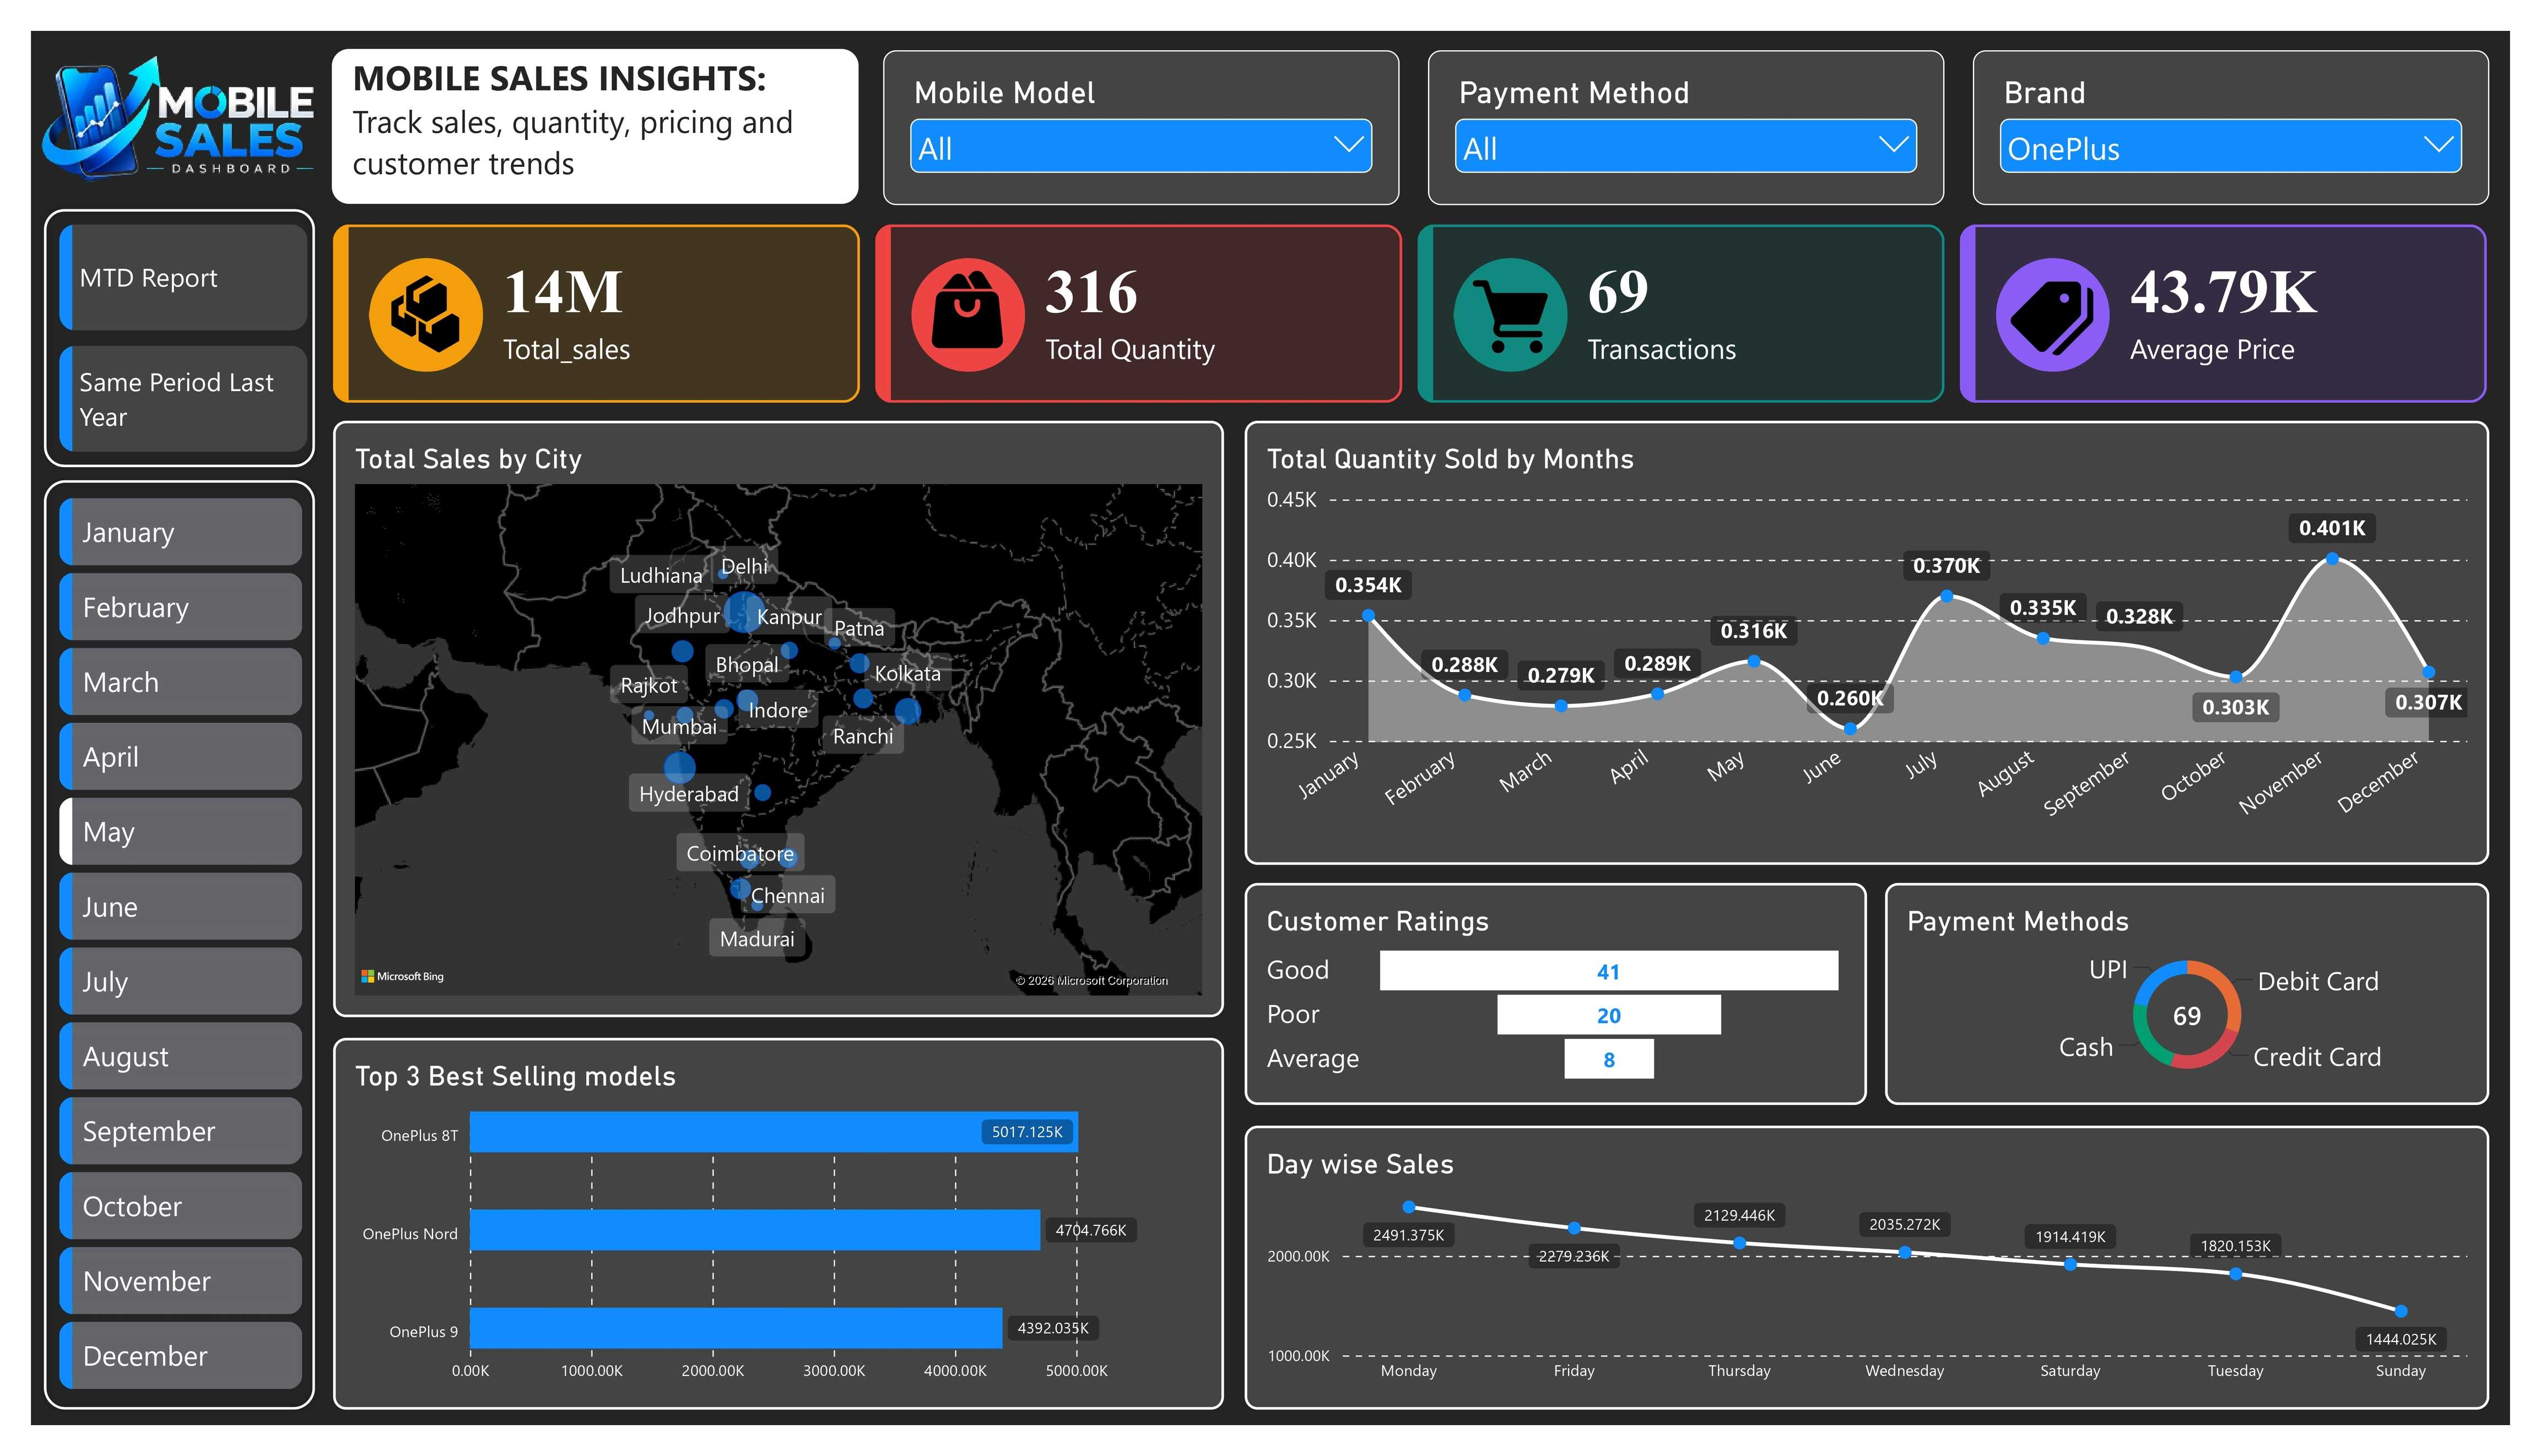

Layout of this report page (visuals, bound fields, positions):
{"tool":"powerbi","page":{"name":"Dashboard","canvas":[1920,1080],"ordinal":0},"visuals":[{"type":"image","box":[0,0,228,130],"z":0},{"type":"shape","box":[6,134,218,208],"z":1000},{"type":"shape","box":[6,344,218,728],"z":2000},{"type":"slicer","fields":{"Values":["sales_data.Mobile Model"]},"box":[660,15.3,400,120],"z":3000},{"type":"slicer","fields":{"Values":["sales_data.Payment Method"]},"box":[1082,15.3,400,120],"z":4000},{"type":"slicer","fields":{"Values":["sales_data.Brand"]},"box":[1504,15.3,400,120],"z":5000},{"type":"cardVisual","fields":{"Data":["sales_data.Total_sales","sales_data.Total Quantity","sales_data.Transactions","sales_data.Average Price"]},"box":[234,150,1670,138],"z":6000},{"type":"map","title":"Total Sales by City","fields":{"Category":["sales_data.City"],"Size":["sales_data.Total_sales"]},"box":[234,302,690,462],"z":7000},{"type":"lineChart","title":"Total Quantity Sold by Months","fields":{"Category":["custom_calendar.Date.Variation.Date Hierarchy.Month"],"Y":["sales_data.Total Quantity"]},"box":[940,302,964,344],"z":8000},{"type":"funnel","title":"Customer Ratings","fields":{"Category":["sales_data.Ratings"],"Y":["CountNonNull(sales_data.Ratings)"]},"box":[940,660,482,172],"z":9000},{"type":"donutChart","title":"Payment Methods","fields":{"Category":["sales_data.Payment Method"],"Y":["CountNonNull(sales_data.Transaction ID)"]},"box":[1436,660,468,172],"z":10000},{"type":"areaChart","title":"Day wise Sales","fields":{"Category":["custom_calendar.Day Name"],"Y":["sales_data.Total_sales"]},"box":[940,848,964,220],"z":11000},{"type":"clusteredBarChart","title":"Top 3 Best Selling models","fields":{"Category":["sales_data.Mobile Model"],"Y":["sales_data.Total_sales"]},"box":[234,780,690,288],"z":12000},{"type":"advancedSlicerVisual","fields":{"Values":["custom_calendar.Date.Variation.Date Hierarchy.Month"]},"box":[22,362,188,690],"z":13000},{"type":"pageNavigator","box":[22,150,192,176],"z":14000},{"type":"shape","box":[233,13.5,408,120],"z":15000},{"type":"textbox","box":[249,16.5,376,114],"z":16000}]}

Visuals, with their boxes in screenshot pixels (x1, y1, x2, y2), scaled from the page's 1920x1080 canvas onto the 2541x1456 screenshot:
image: 0/0/302/175
shape: 8/181/296/461
shape: 8/464/296/1445
slicer - sales_data.Mobile Model: 873/20/1403/182
slicer - sales_data.Payment Method: 1432/20/1961/182
slicer - sales_data.Brand: 1991/20/2520/182
cardVisual - sales_data.Total_sales x sales_data.Total Quantity: 310/202/2520/388
"Total Sales by City" map: 310/407/1223/1030
"Total Quantity Sold by Months" lineChart: 1244/407/2520/871
"Customer Ratings" funnel: 1244/890/1882/1122
"Payment Methods" donutChart: 1900/890/2520/1122
"Day wise Sales" areaChart: 1244/1143/2520/1440
"Top 3 Best Selling models" clusteredBarChart: 310/1052/1223/1440
advancedSlicerVisual - custom_calendar.Date.Variation.Date Hierarchy.Month: 29/488/278/1418
pageNavigator: 29/202/283/440
shape: 309/18/848/180
textbox: 329/22/827/176
